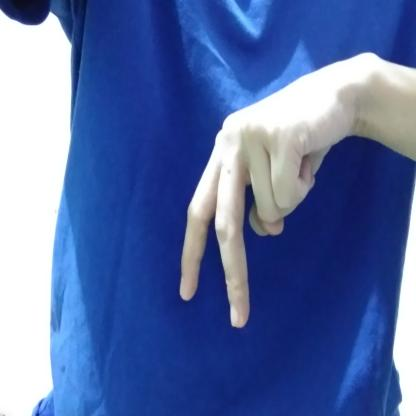run: (167, 45, 377, 339)
